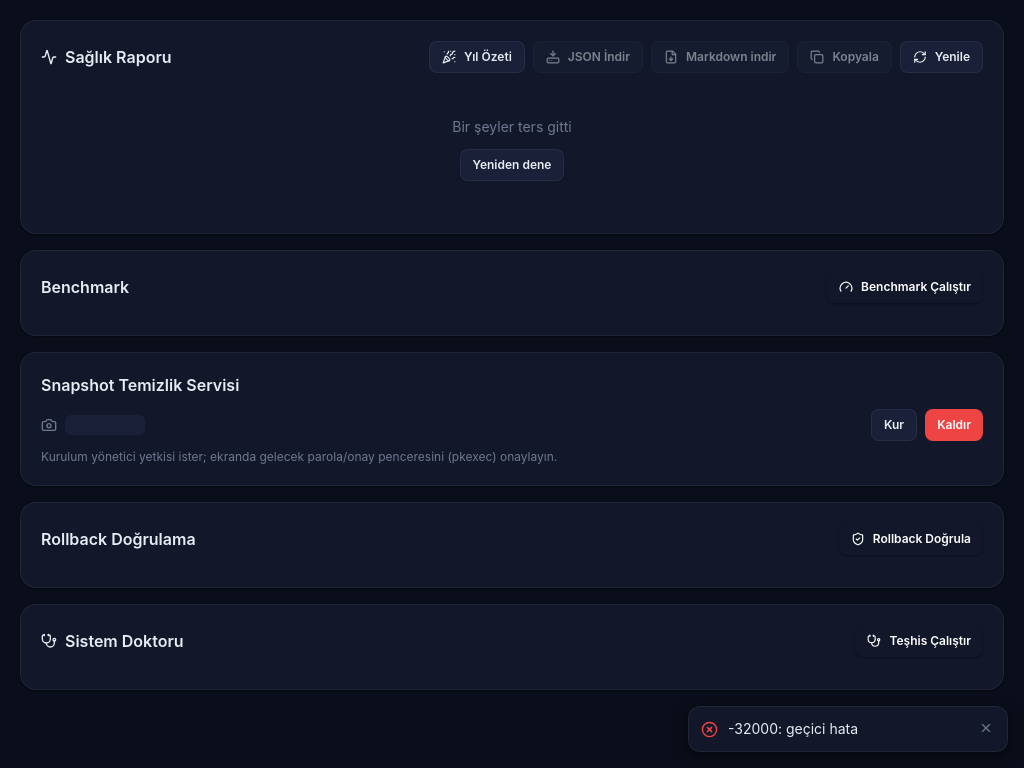
Reports page › recovers through the retry button after a failed load
Expected: the text "Bir şeyler ters gitti" is shown, [452, 117, 572, 137]
What coordinates should you click on to do the following:
click the button "Yeniden dene"
I would click on:
 (512, 165)
Its box is [460, 149, 564, 181].
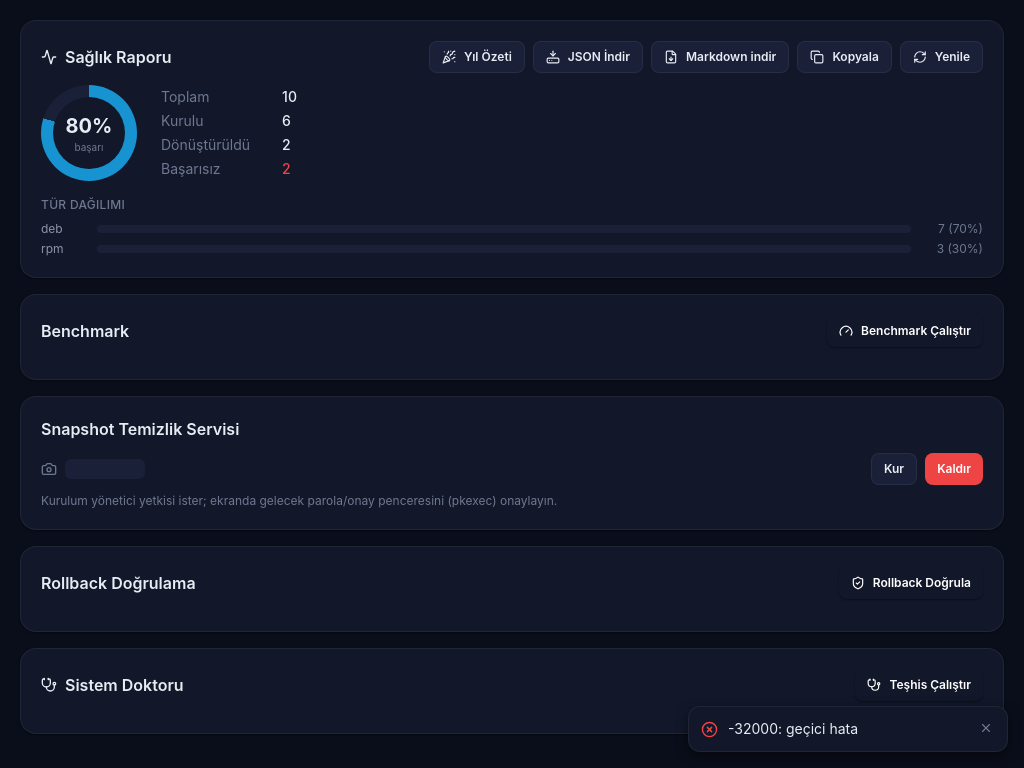
Result: the text "80%" is shown at [66, 112, 112, 140]
